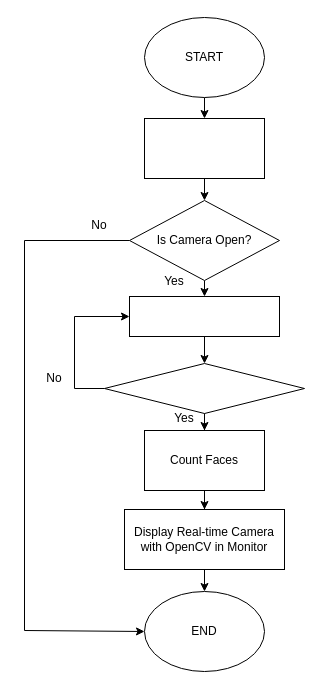
The diagram is 322 pixels wide and 689 high, and some of its shapes have lost their labels. Each missing label, with the centre of its shape:
Detect Faces: the point at 204,316
Face Detected?: the point at 204,388
Open Camera: the point at 204,148
